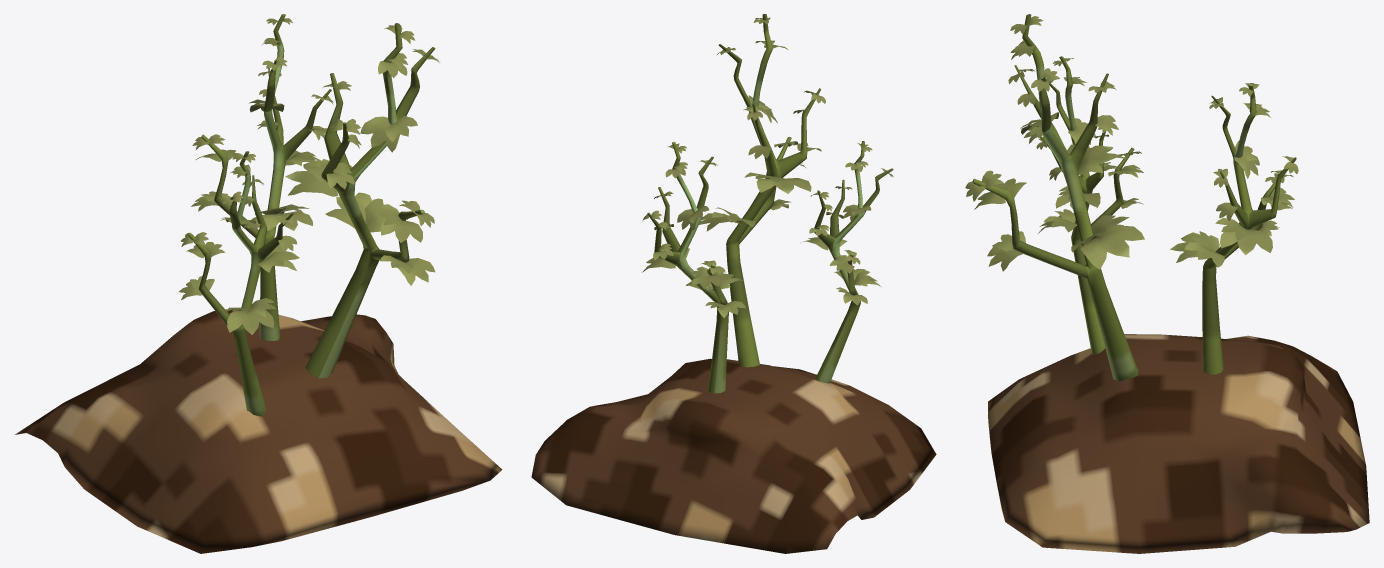
Rendered from Cotton Stage 1 New.fbx.
3 renders of one model, left to right at view 1: azimuth 30°, elevation 25°; view 2: azimuth 150°, elevation 25°; view 3: azimuth 270°, elevation 25°, orthographic. The views are drawn at different scales.
Visible parts, largest first — view 1: Cotton_Stage_6; view 2: Cotton_Stage_6; view 3: Cotton_Stage_6.
Part boxes in pixels (<box>): Cotton_Stage_6: <box>15,14,502,553</box>; Cotton_Stage_6: <box>531,14,936,553</box>; Cotton_Stage_6: <box>965,14,1369,553</box>.
Size of the model in its own units: 15.56 by 20.35 by 15.49.
Materials: 1 (1 with a texture image).
